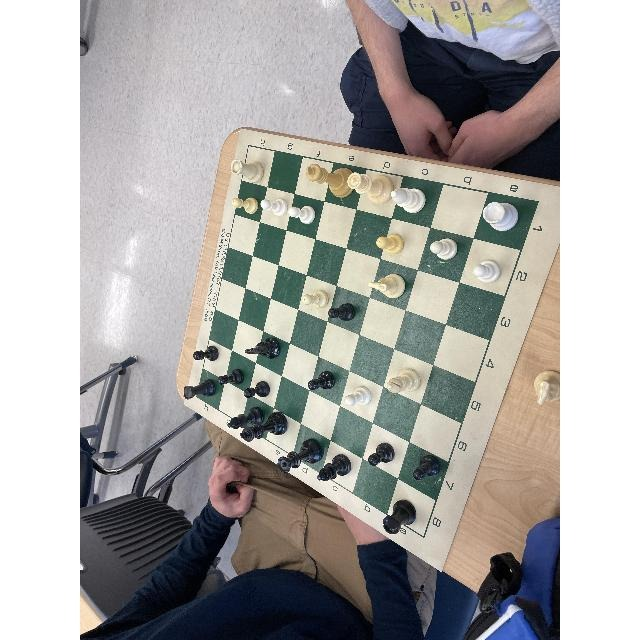black-bishop: (306, 457, 360, 487)
black-pawn: (243, 333, 285, 363), (366, 439, 402, 474), (187, 355, 219, 391), (183, 376, 218, 402), (324, 454, 354, 484), (414, 452, 441, 484), (307, 369, 338, 395), (244, 379, 274, 401), (192, 345, 220, 367), (263, 409, 288, 432), (221, 369, 244, 390)
black-rook: (381, 498, 421, 537), (467, 608, 503, 640)
white-bishop: (297, 284, 359, 324), (336, 376, 383, 415)
white-king: (291, 164, 377, 197), (327, 172, 415, 204)
white-pawn: (464, 252, 509, 291), (383, 362, 431, 398), (477, 199, 524, 235), (262, 198, 317, 228), (362, 269, 410, 303), (373, 230, 415, 261), (237, 152, 271, 190), (392, 186, 432, 216), (430, 233, 464, 268), (281, 202, 320, 231), (235, 191, 260, 219)
